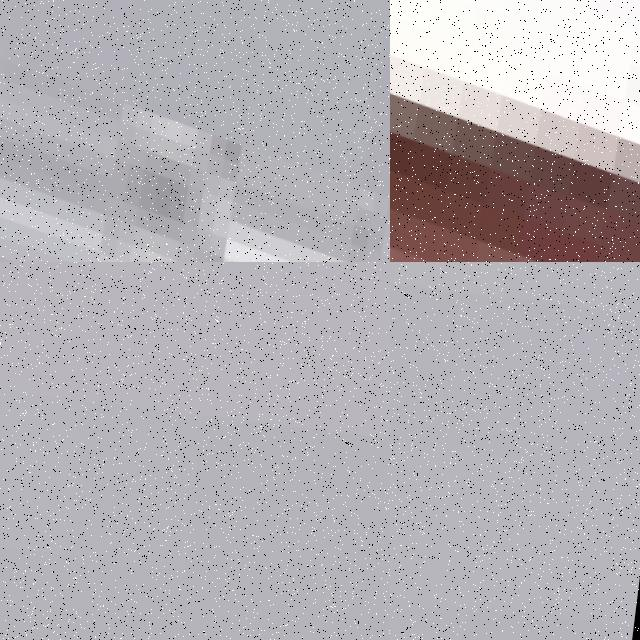drone: (0, 0, 390, 262), (390, 0, 640, 262)
